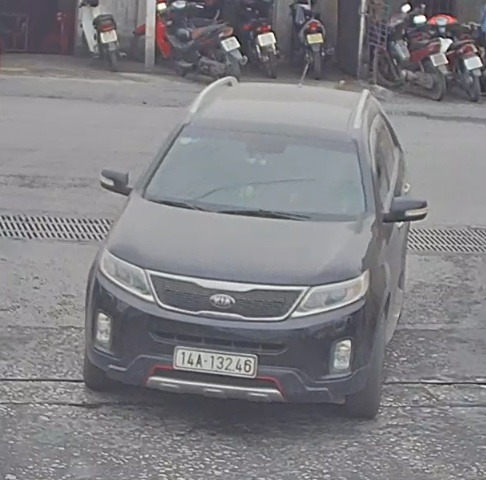vehicle plate: (172, 342, 263, 382)
